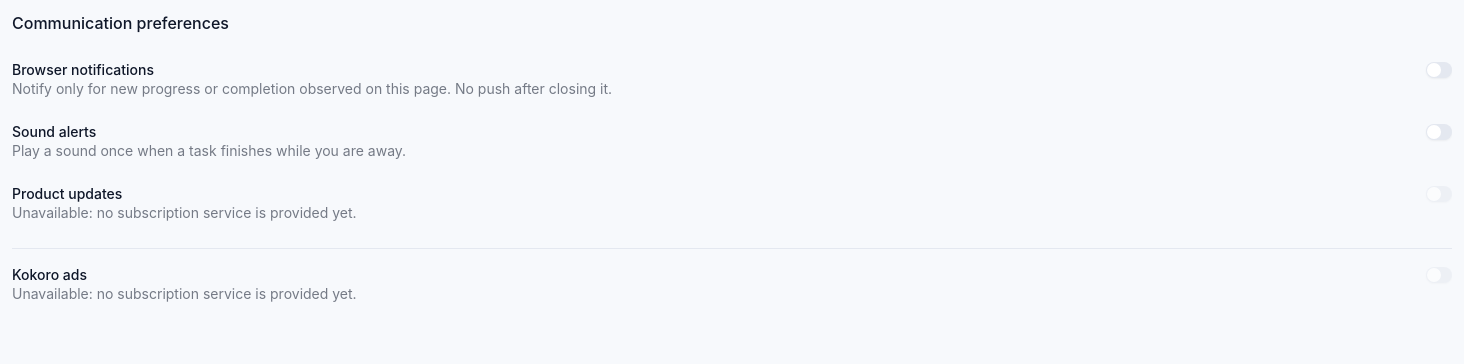
Test: subject storage and admitted settings lifecycle › requests permission only from gesture and reports denial without saving
Click the switch named "Browser notifications". click: (1439, 70)
box: [1426, 62, 1452, 78]
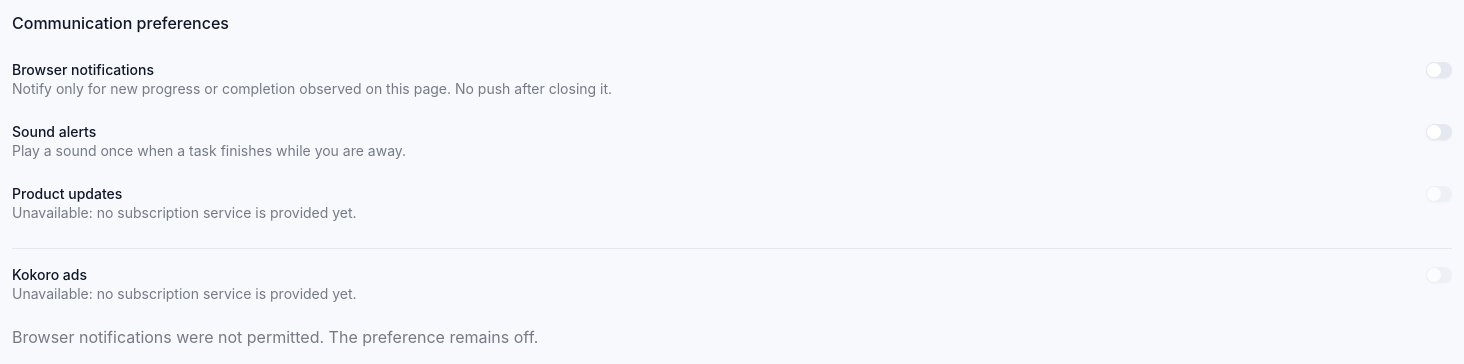
Expected: the message "Browser notifications were not permitted. The preference remains off." is shown, [12, 327, 538, 347]
